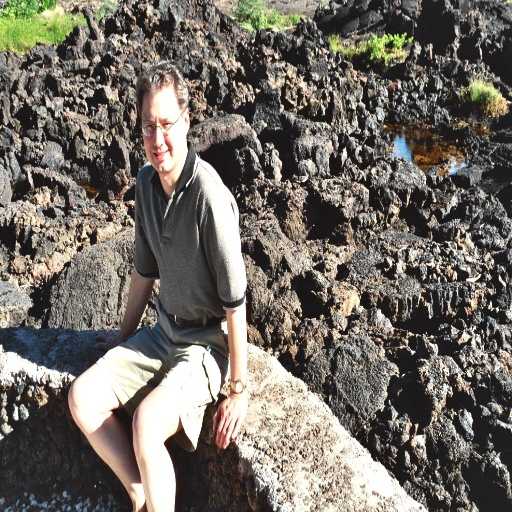hand: (208, 379, 239, 463), (94, 327, 121, 352)
